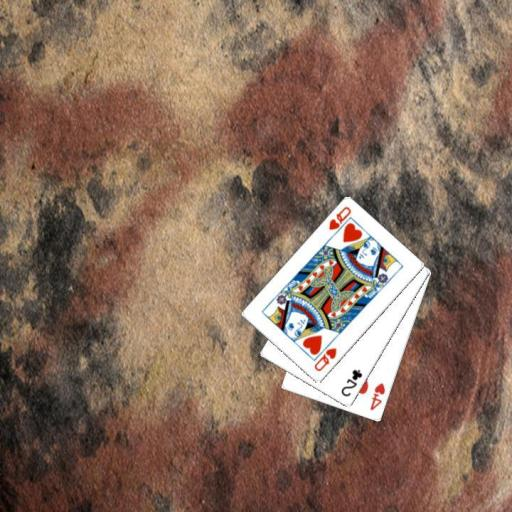2C: (338, 366, 364, 398)
4H: (367, 380, 387, 412)
QH: (326, 203, 353, 240), (311, 345, 338, 373)
